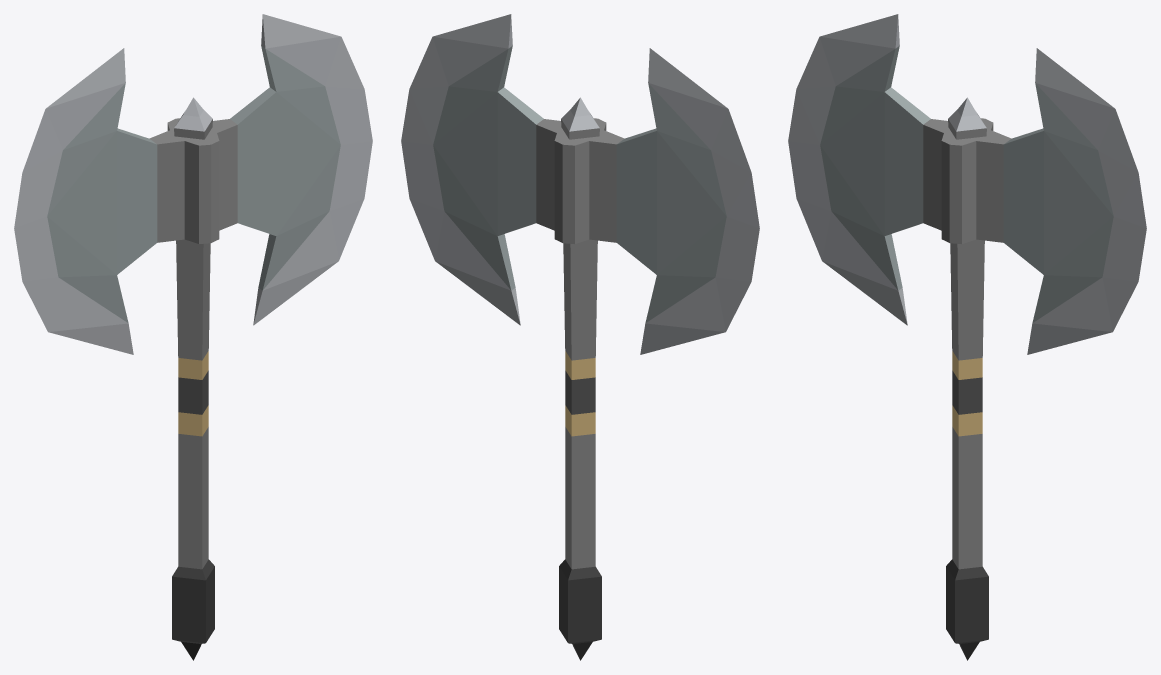
File: Axe_3.fbx
3 renders of one model, left to right at view 1: azimuth 30°, elevation 25°; view 2: azimuth 150°, elevation 25°; view 3: azimuth 330°, elevation 25°, orthographic.
Visible parts, largest first — view 1: polySurface478; view 2: polySurface478; view 3: polySurface478.
Boxes of the visible parts, bbox=[...] form: polySurface478: bbox=[14, 14, 372, 660]; polySurface478: bbox=[401, 14, 759, 660]; polySurface478: bbox=[788, 14, 1146, 660].
Bounding box in the file's own units: 141 × 236 × 24.22.
